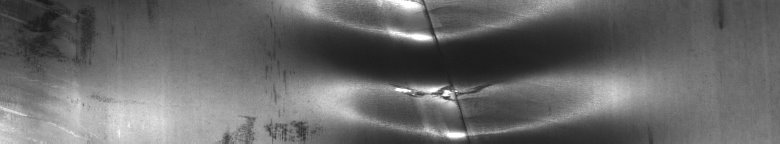ke: (267, 4, 571, 136)
